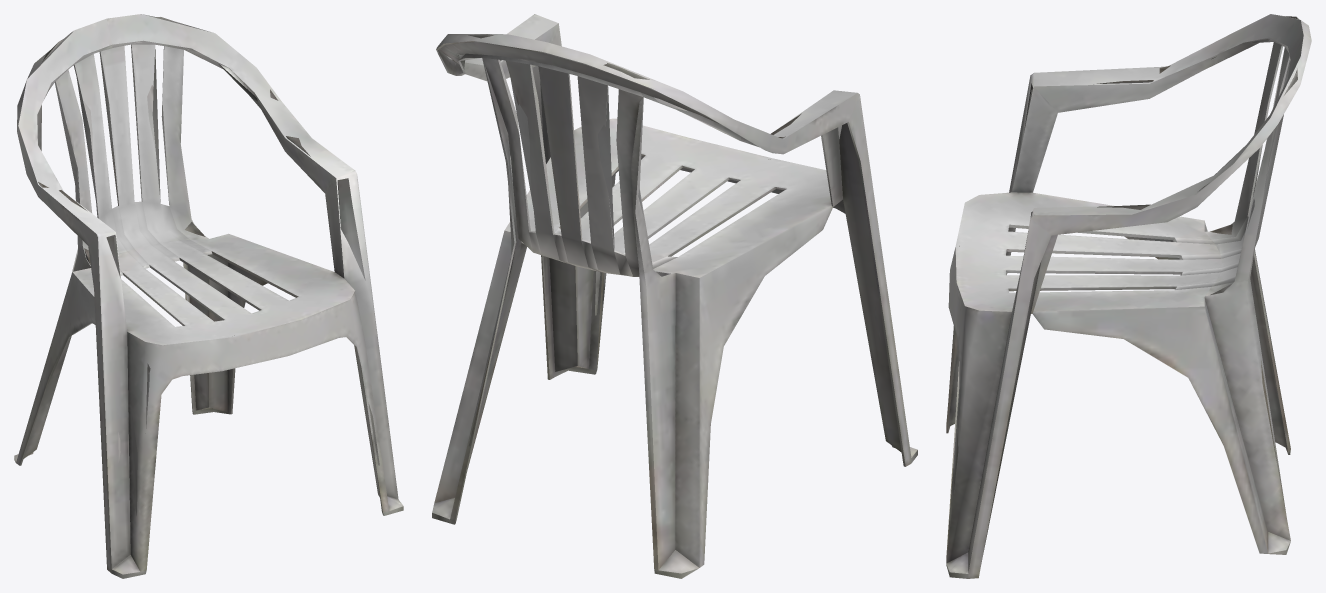
The model's file is chairPlastic_lo.glb.
The picture shows the model from 3 angles, left to right: view 1: azimuth 30°, elevation 25°; view 2: azimuth 150°, elevation 25°; view 3: azimuth 270°, elevation 25°; orthographic projection. The views are drawn at different scales.
Parts seen in each view (by area): view 1: plastic_monobloc_chair_01; view 2: plastic_monobloc_chair_01; view 3: plastic_monobloc_chair_01.
Boxes of the visible parts, box(x1,y1,x2,y2) form: plastic_monobloc_chair_01: box(14, 14, 403, 578); plastic_monobloc_chair_01: box(432, 14, 917, 578); plastic_monobloc_chair_01: box(946, 14, 1311, 578).
Size of the model in its own units: 0.6419 by 0.8798 by 0.6276.
1 material, 1 textured.
